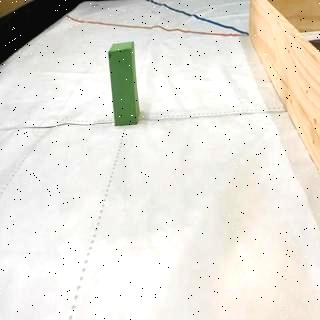greenbox: (110, 44, 138, 125)
